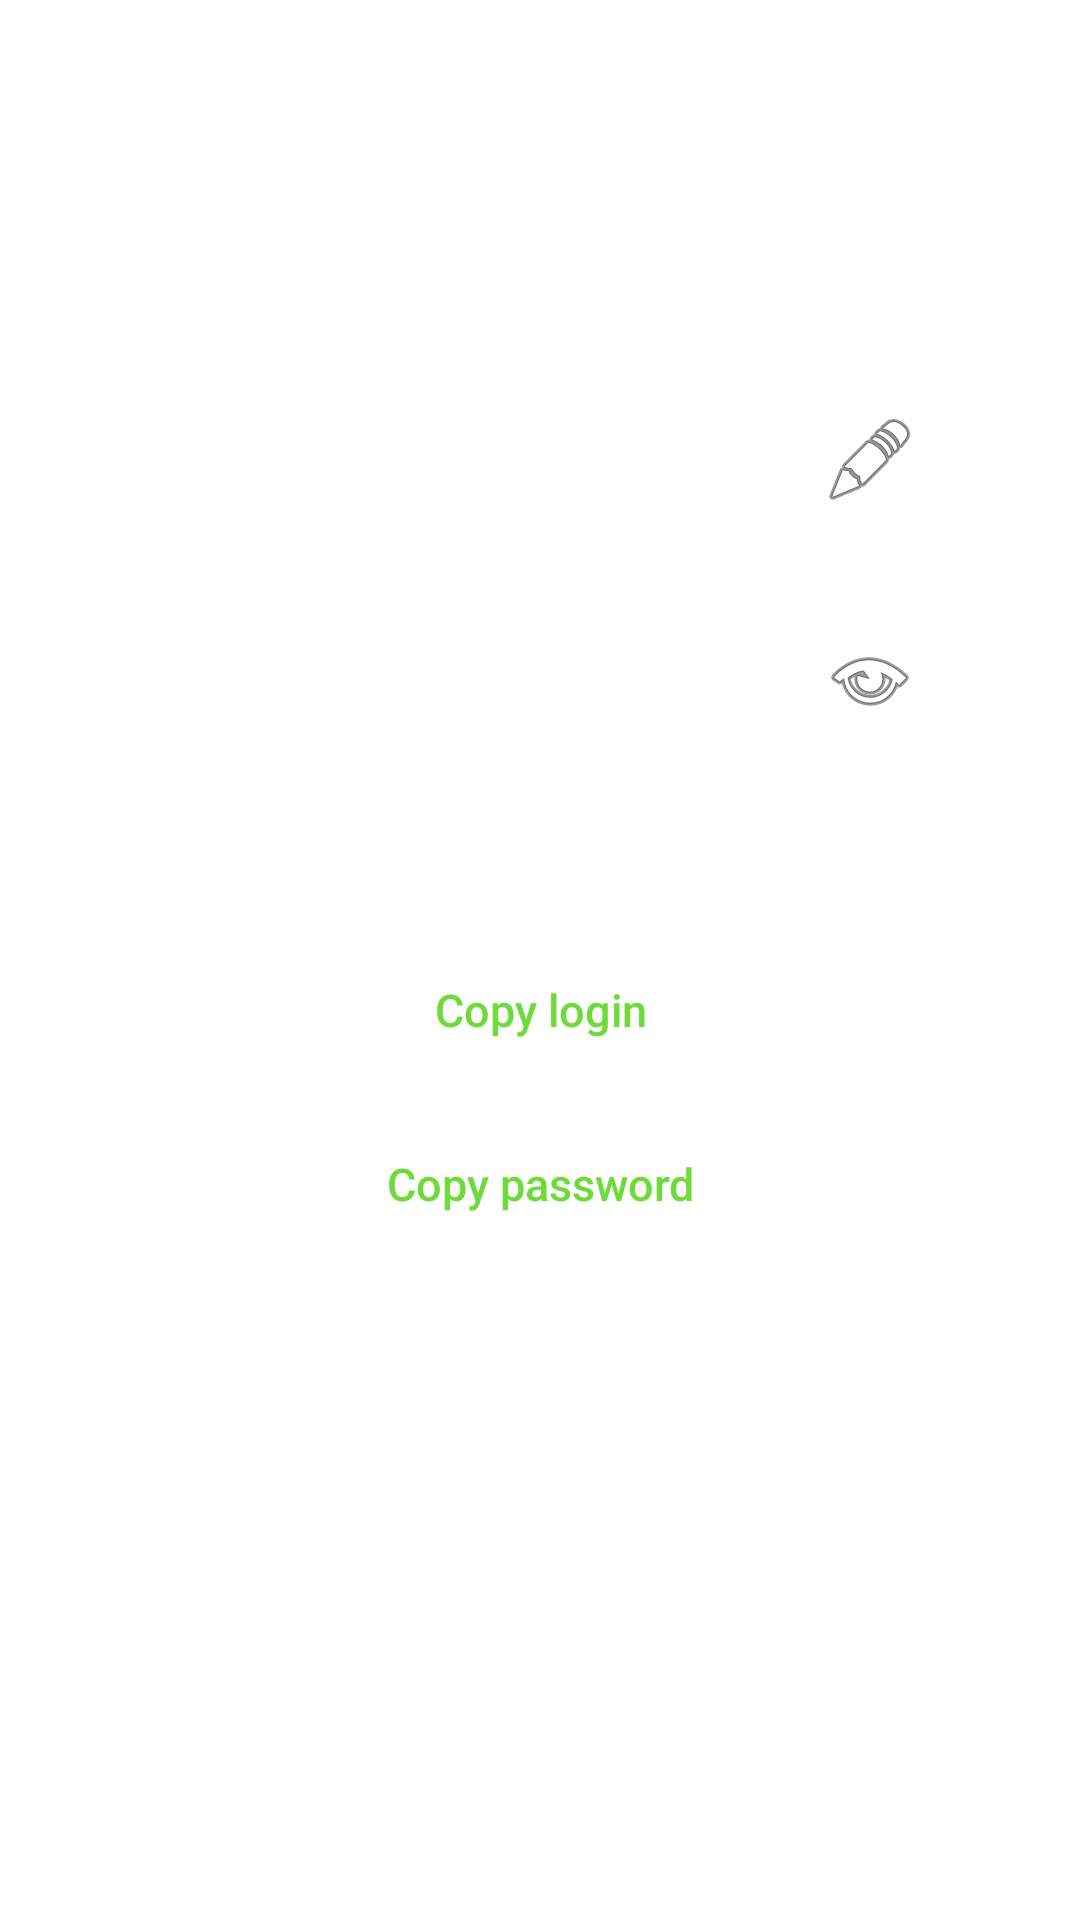

Where to tap for icons on this 1080×1920 app screen, as point (x, y):
edit: point (869, 459)
view: point (870, 681)
